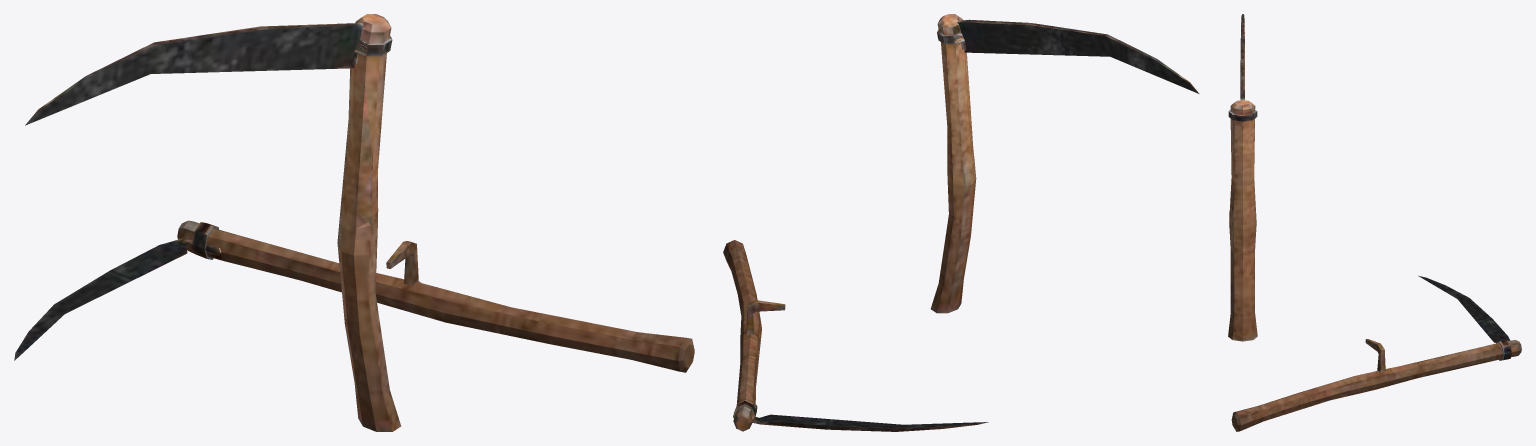
The model's file is sickle.fbx.
3 views of the same model, side by side, from view 1: azimuth 30°, elevation 25°; view 2: azimuth 150°, elevation 25°; view 3: azimuth 270°, elevation 25° (orthographic). The views are drawn at different scales.
Visible parts, largest first — view 1: sickle, sickle.001; view 2: sickle, sickle.001; view 3: sickle.001, sickle.
Part boxes in pixels (x1,y1,x2,y2): sickle: (25,14,401,431); sickle.001: (14,220,694,372); sickle: (930,14,1199,313); sickle.001: (723,240,988,431); sickle.001: (1231,275,1521,431); sickle: (1228,14,1257,341).
Size of the model in its own units: 111 by 71.66 by 73.39.
